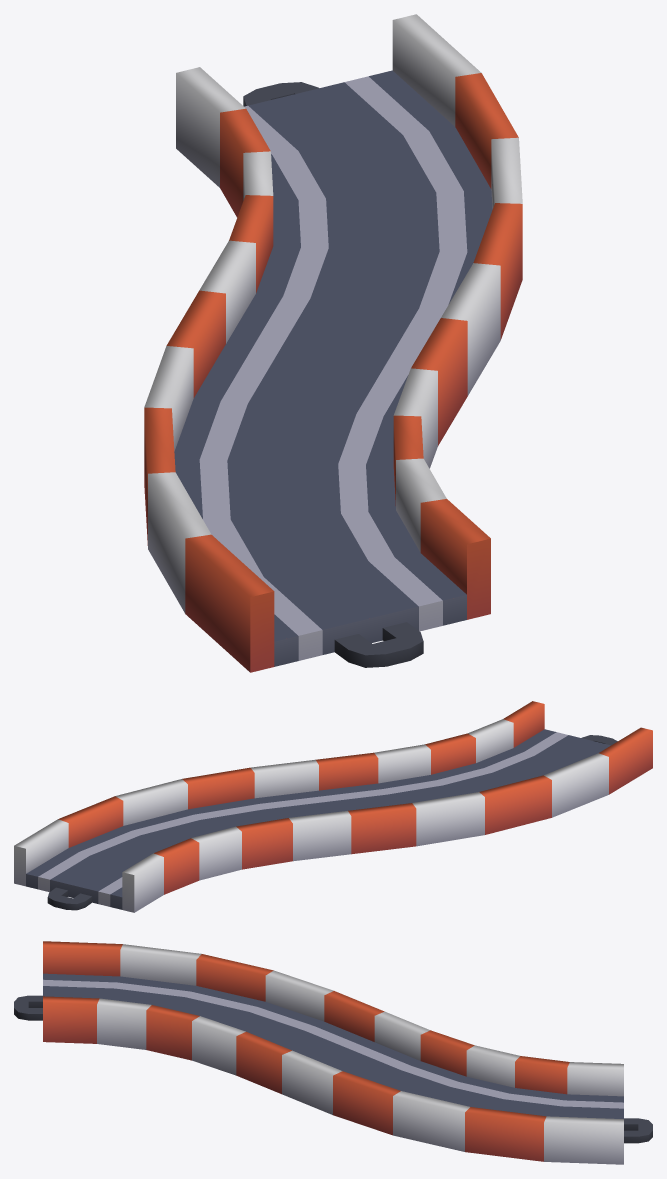
The model's file is track-road-narrow-curve.glb.
The picture shows the model from 3 angles, top to bottom: view 1: azimuth 30°, elevation 25°; view 2: azimuth 150°, elevation 25°; view 3: azimuth 270°, elevation 25°; orthographic projection. The views are drawn at different scales.
Visible parts, largest first — view 1: track-road-narrow-curve; view 2: track-road-narrow-curve; view 3: track-road-narrow-curve.
Boxes of the visible parts, bbox=[...] form: track-road-narrow-curve: bbox=[144, 14, 522, 672]; track-road-narrow-curve: bbox=[14, 701, 652, 912]; track-road-narrow-curve: bbox=[14, 941, 652, 1164].
Bounding box in the file's own units: 3 × 0.3 × 4.4.
